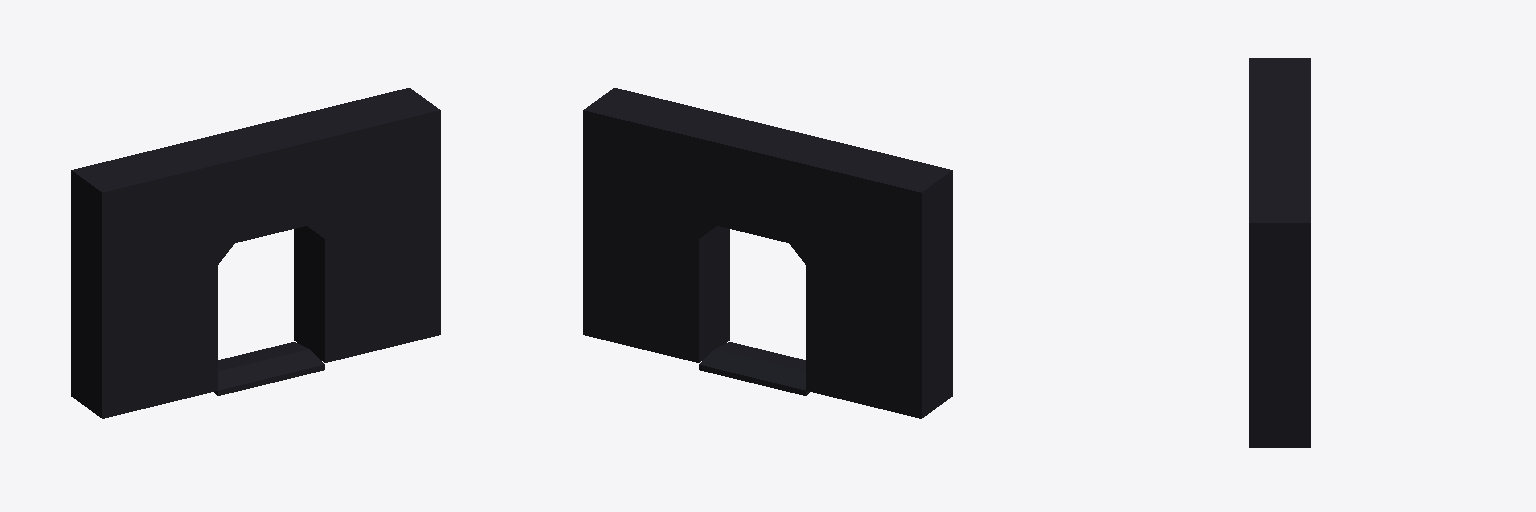
File: Wall_doorway.obj
3 views of the same model, side by side, from view 1: azimuth 30°, elevation 25°; view 2: azimuth 150°, elevation 25°; view 3: azimuth 270°, elevation 25° (orthographic).
Visible parts, largest first — view 1: Cube.002; view 2: Cube.002; view 3: Cube.002.
Boxes of the visible parts, box(x1,y1,x2,y2) form: Cube.002: box(71, 88, 440, 418); Cube.002: box(583, 88, 952, 418); Cube.002: box(1249, 58, 1310, 447).
Size of the model in its own units: 6.3 by 4.12 by 1.